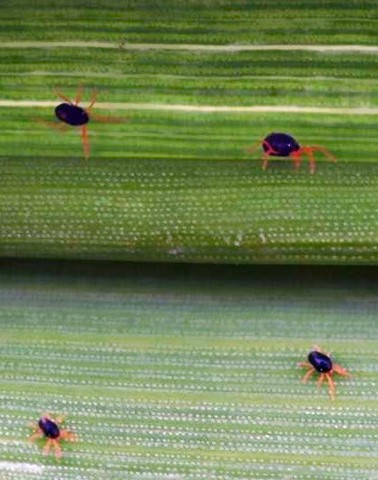Wheat Red Spider: (238, 126, 343, 178), (292, 332, 353, 404)
